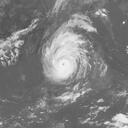cyclone: (40, 32, 91, 86)
